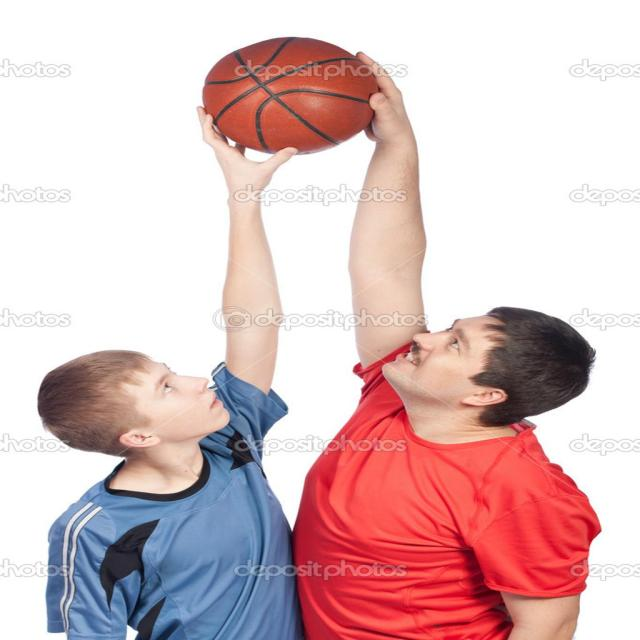Face: (391, 290, 517, 405), (108, 357, 235, 453)
